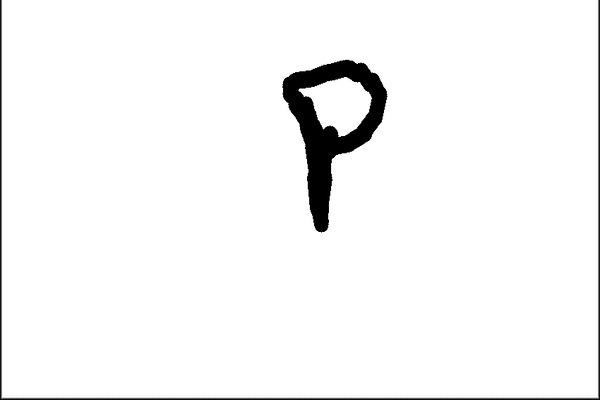P: (270, 50, 391, 244)
